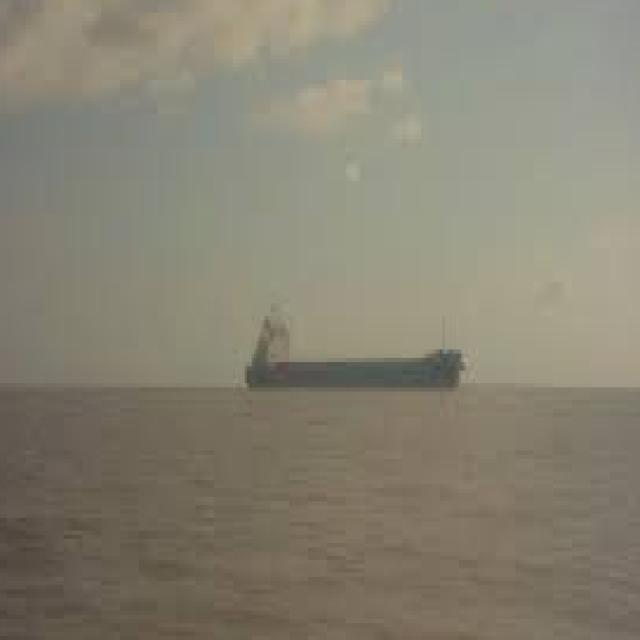cargoship: (244, 310, 463, 390)
